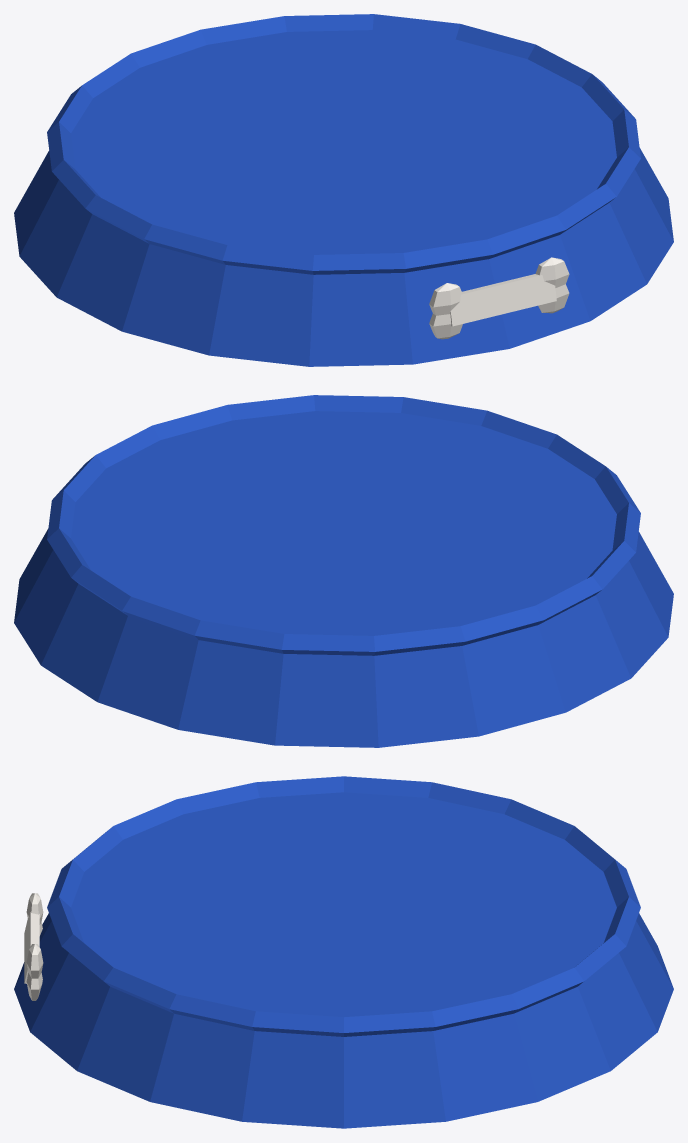
The model's file is dog_bowl.glb.
The picture shows the model from 3 angles, top to bottom: view 1: azimuth 30°, elevation 25°; view 2: azimuth 150°, elevation 25°; view 3: azimuth 270°, elevation 25°; orthographic projection.
Visible parts, largest first — view 1: dog_bowl; view 2: dog_bowl; view 3: dog_bowl.
Boxes of the visible parts, x1,y1,x2,y2 form: dog_bowl: [14, 14, 673, 366]; dog_bowl: [14, 395, 673, 747]; dog_bowl: [14, 776, 673, 1128].
Bounding box in the file's own units: 0.44 × 0.068 × 0.44.
